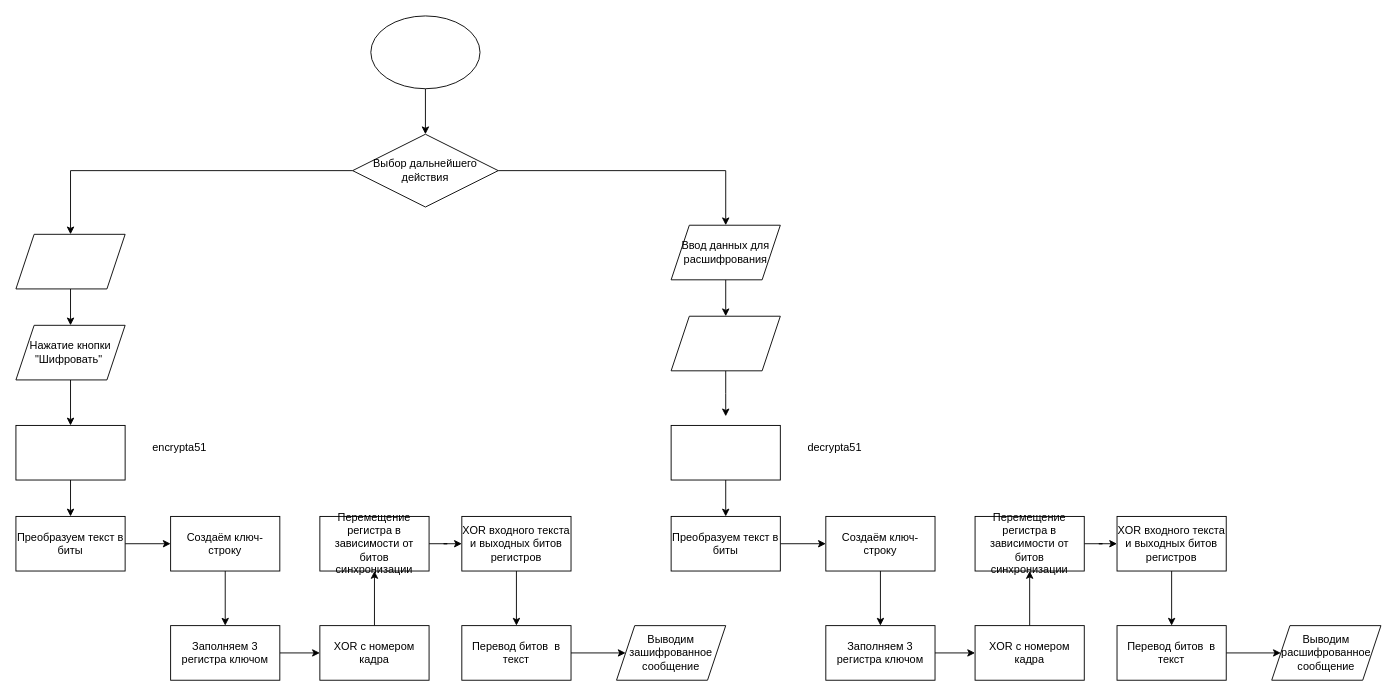
Some shapes in this 1397 by 696 pixel diagram are drawn without their labels. Here are the shapes that lost their labels. From the top down, the centre of each, then its label:
point 425,52: Начало
point 70,261: Ввод данных для шифрования
point 725,343: Нажатие кнопки "Расшифровать"
point 70,452: Вызываем функцию шифрования
point 725,452: Вызываем функцию расшифрования
